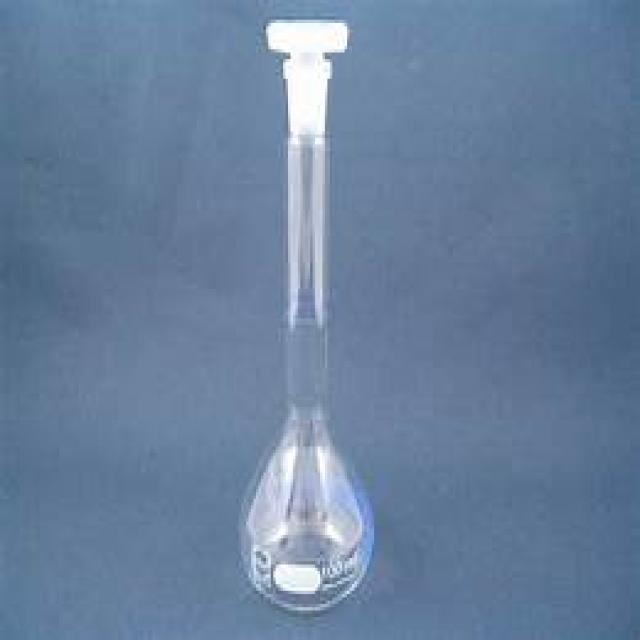Volumetric flask: (205, 10, 388, 610)
